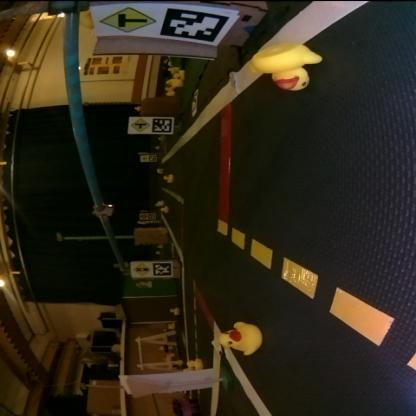Duckie: (249, 42, 322, 90), (218, 323, 260, 354), (185, 360, 203, 370), (173, 70, 185, 80), (162, 174, 172, 182), (170, 306, 178, 314), (160, 207, 168, 212)
Intersection sign: (98, 6, 157, 34), (129, 118, 149, 132), (140, 154, 148, 160)
QR code: (158, 11, 228, 43), (152, 117, 172, 133), (152, 262, 170, 276), (148, 155, 156, 161), (148, 213, 155, 219)
Signal sign: (132, 262, 150, 276)
Stop sign: (138, 213, 146, 219)
Traffic light: (90, 203, 115, 216)
